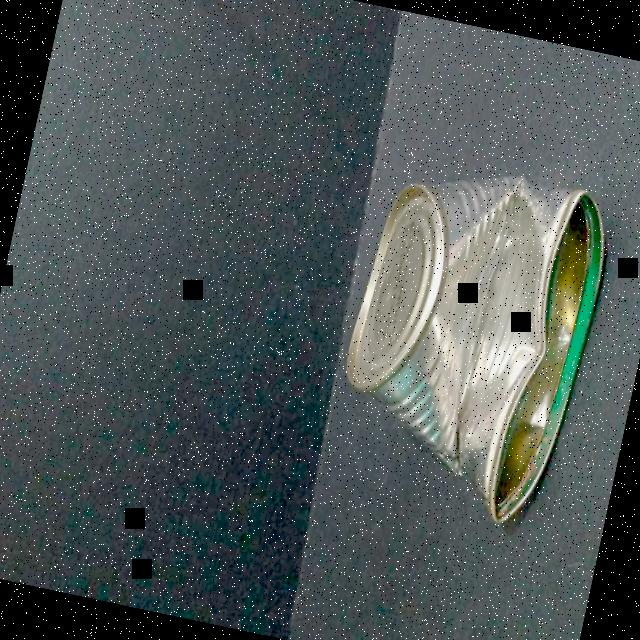can: (316, 147, 618, 537)
